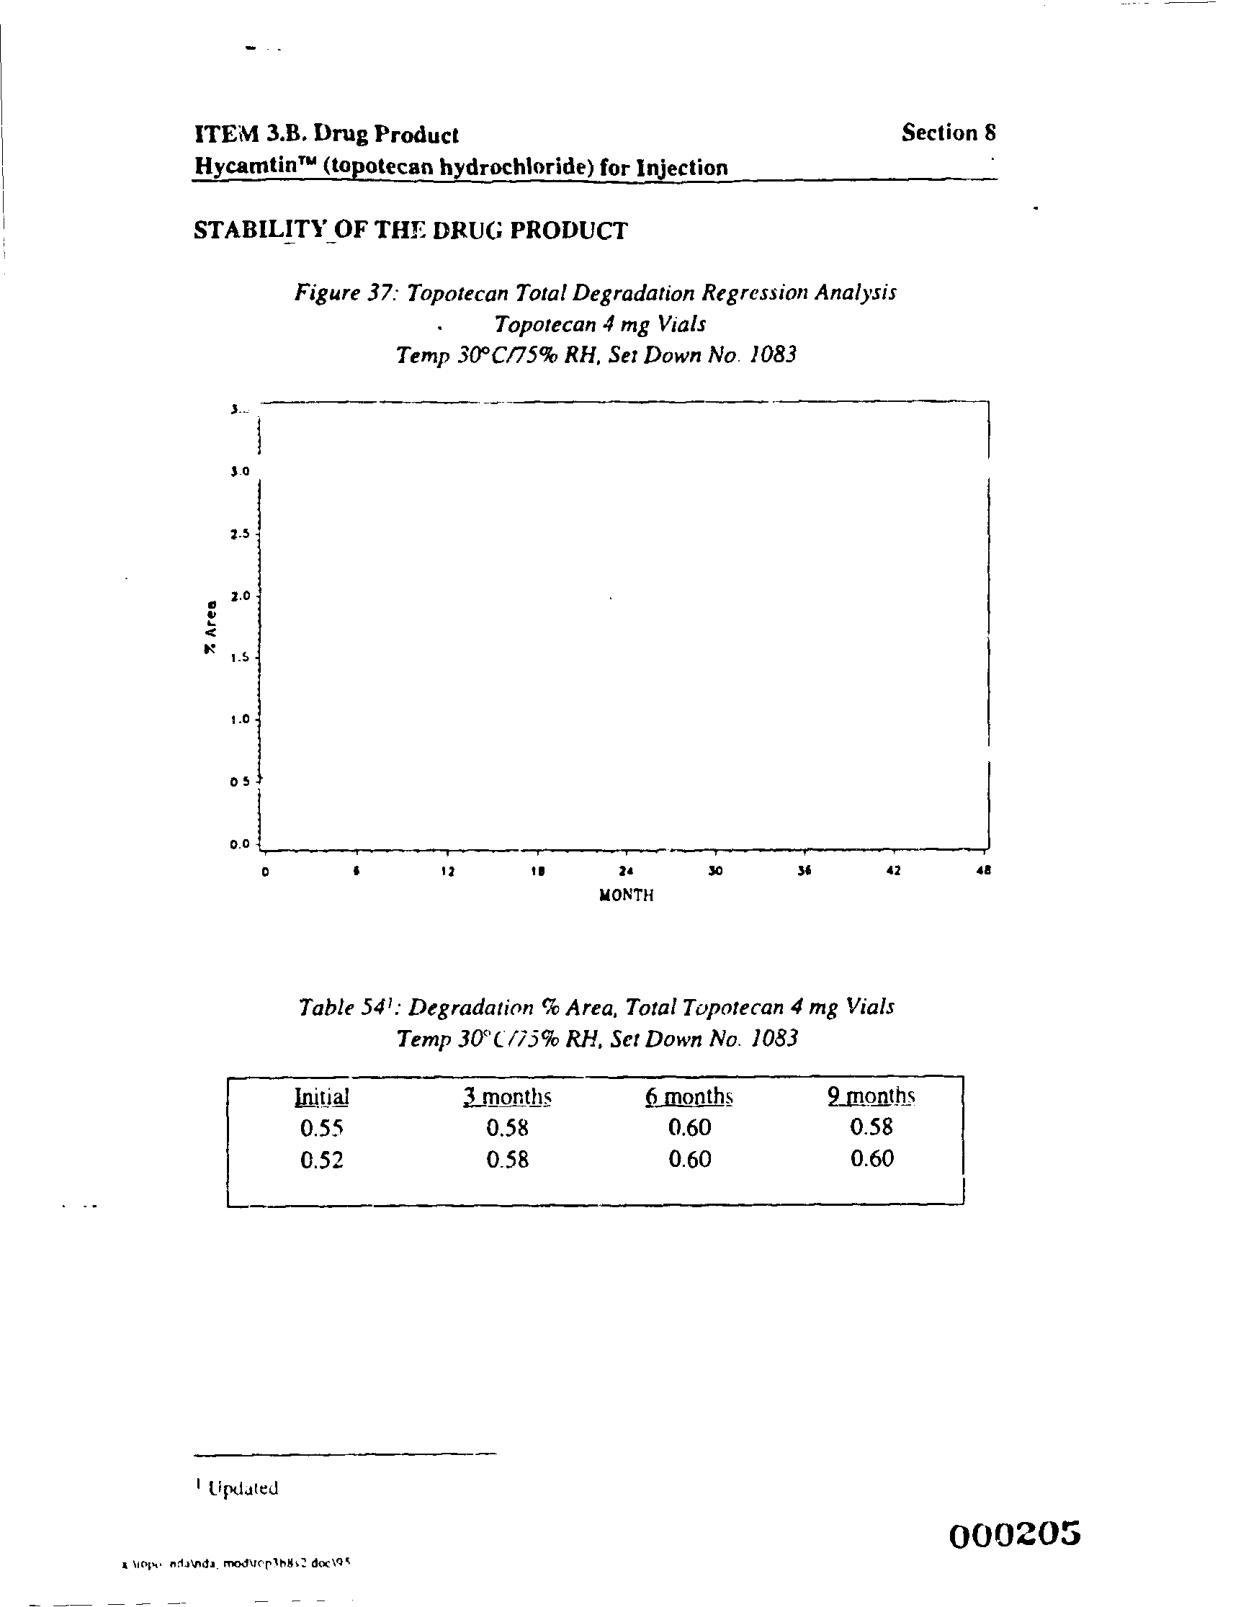partial_lined: (227, 1074, 968, 1209)
